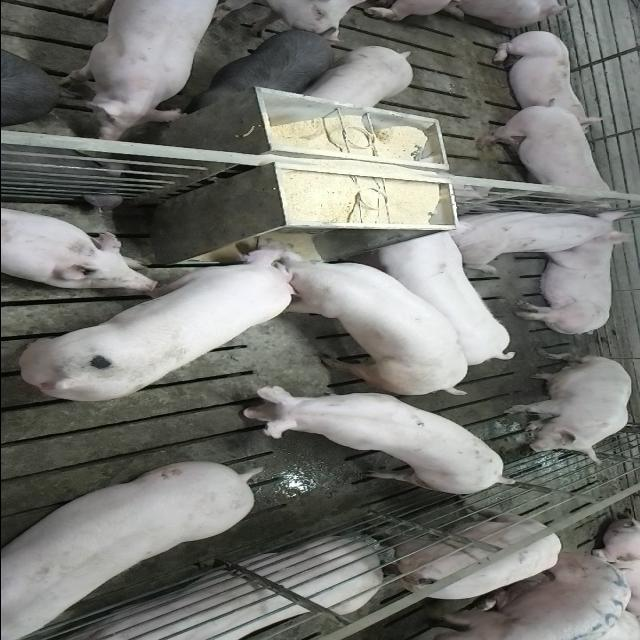Feeding: (16, 240, 300, 404), (256, 240, 470, 394)
Lateral_lying: (512, 226, 630, 338)
Sitting: (500, 354, 632, 466), (445, 204, 627, 266)
Standing: (0, 464, 257, 640), (230, 390, 514, 498), (62, 1, 226, 140), (362, 225, 514, 366), (361, 506, 566, 608), (406, 552, 640, 640), (474, 102, 622, 204), (185, 30, 338, 110), (301, 45, 413, 109)
Sternal_lying: (0, 205, 156, 291), (485, 28, 603, 122)
